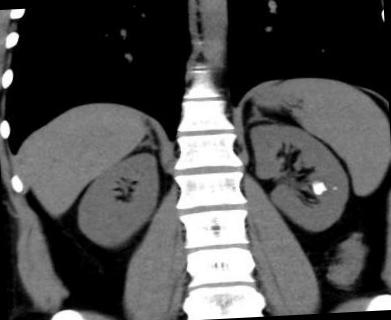Tas_Var: (308, 181, 329, 196), (331, 186, 339, 192)
